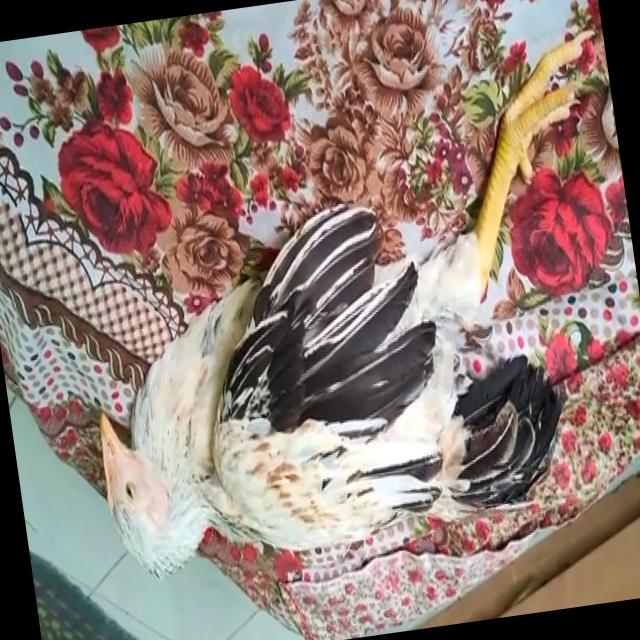leg stretching: (41, 0, 635, 570)
